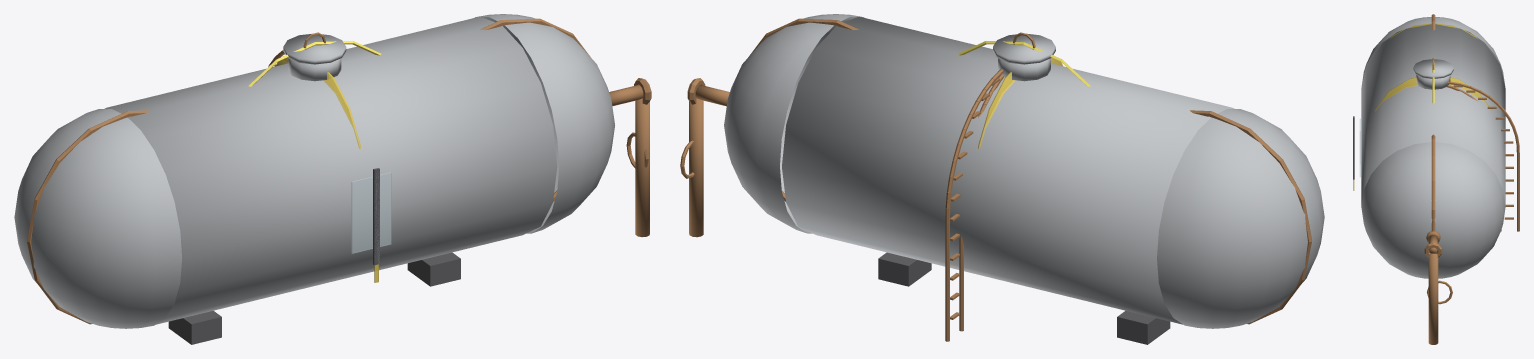
The model's file is tank3d.glb.
3 views of the same model, side by side, from view 1: azimuth 30°, elevation 25°; view 2: azimuth 150°, elevation 25°; view 3: azimuth 270°, elevation 25° (orthographic). The views are drawn at different scales.
Parts seen in each view (by area): view 1: TankBody, EndCap_L, EndCap_R, TankSightWindow, PipeVertical, HatchLid, RivetRing_0, CradleSupport_1, CradleSupport_0, HatchNeck, SightGlass_Frame, FuelSurface (+2 smaller); view 2: TankBody, EndCap_L, EndCap_R, PipeVertical, HatchLid, RivetRing_0, CradleSupport_1, CradleSupport_0, HatchNeck, FuelSurface, RivetRing_1, PipeHorizontal; view 3: TankBody, EndCap_R, PipeVertical, EndCap_L, HatchLid, RivetRing_1, FuelSurface, HatchNeck, PipeElbow, FuelVolume.
Part boxes in pixels (x1,y1,x2,y2): TankBody: (104,16,557,324); EndCap_L: (14,109,182,328); EndCap_R: (475,14,614,233); TankSightWindow: (351,172,391,253); PipeVertical: (635,98,649,237); HatchLid: (283,34,346,64); RivetRing_0: (27,110,149,324); CradleSupport_1: (407,252,460,286); CradleSupport_0: (168,310,221,344); HatchNeck: (288,58,341,81); SightGlass_Frame: (373,168,379,265); FuelSurface: (276,58,360,148); TankBody: (782,16,1234,324); EndCap_L: (1157,109,1324,328); EndCap_R: (724,14,864,233); PipeVertical: (689,98,703,237); HatchLid: (993,33,1055,64); RivetRing_0: (1190,110,1311,324); CradleSupport_1: (878,252,931,286); CradleSupport_0: (1117,310,1170,344); HatchNeck: (998,58,1050,81); FuelSurface: (978,58,1062,148); RivetRing_1: (748,18,858,201); PipeHorizontal: (695,85,729,106); TankBody: (1361,24,1505,206); EndCap_R: (1361,142,1505,278); PipeVertical: (1428,253,1438,344); EndCap_L: (1361,17,1505,88); HatchLid: (1413,59,1453,78); RivetRing_1: (1431,134,1435,231); FuelSurface: (1375,77,1491,111); HatchNeck: (1416,75,1450,89); PipeElbow: (1424,243,1442,257); FuelVolume: (1389,23,1477,38).
Size of what is drawn, in the model's own units: 8.67 by 3.74 by 3.12.
